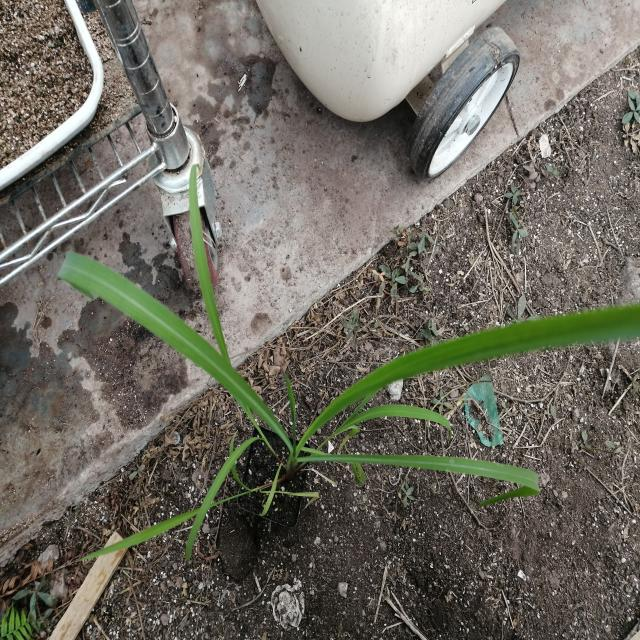barnyard_grass: (73, 235, 589, 506)
